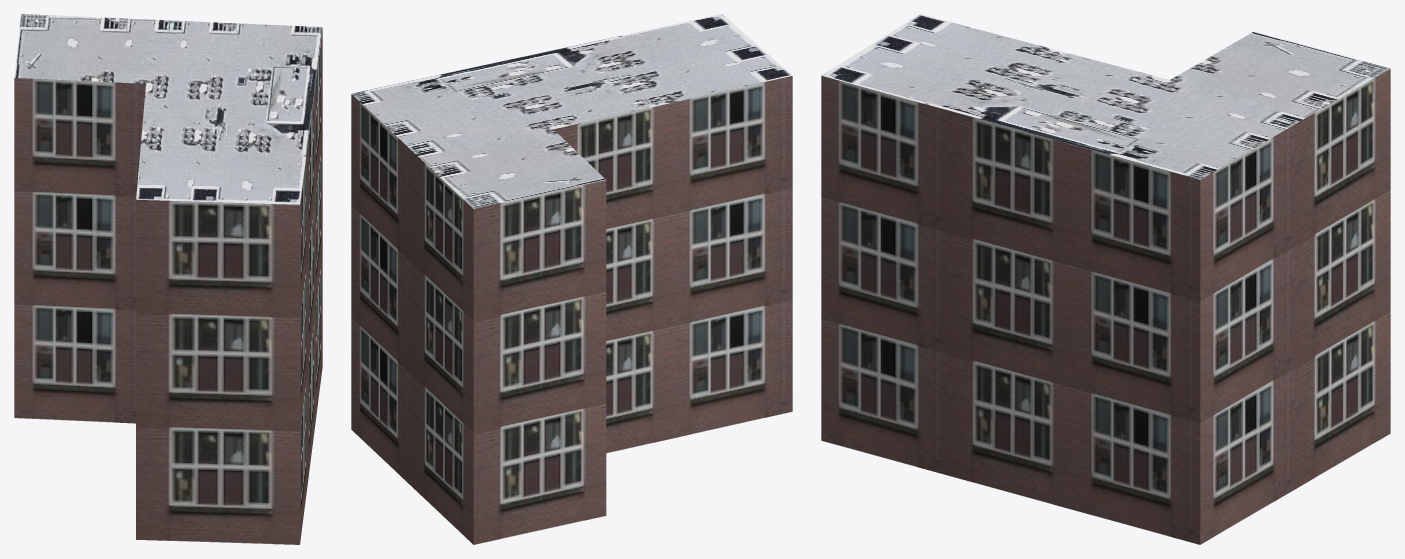
The model's file is ResTex__4512.fbx.
3 renders of one model, left to right at view 1: azimuth 30°, elevation 25°; view 2: azimuth 150°, elevation 25°; view 3: azimuth 270°, elevation 25°, orthographic. The views are drawn at different scales.
Parts seen in each view (by area): view 1: CityEngineMaterial_12_m, CityEngineMaterial_m; view 2: CityEngineMaterial_12_m, CityEngineMaterial_m; view 3: CityEngineMaterial_12_m, CityEngineMaterial_m.
Part boxes in pixels (x1=…): CityEngineMaterial_12_m: x1=14, y1=28, x2=322, y2=544; CityEngineMaterial_m: x1=14, y1=14, x2=322, y2=204; CityEngineMaterial_12_m: x1=351, y1=76, x2=792, y2=544; CityEngineMaterial_m: x1=351, y1=14, x2=792, y2=208; CityEngineMaterial_12_m: x1=821, y1=69, x2=1390, y2=544; CityEngineMaterial_m: x1=821, y1=14, x2=1390, y2=179.
Size of the model in its own units: 8.77 by 9 by 12.73.
2 materials, 2 textured.
